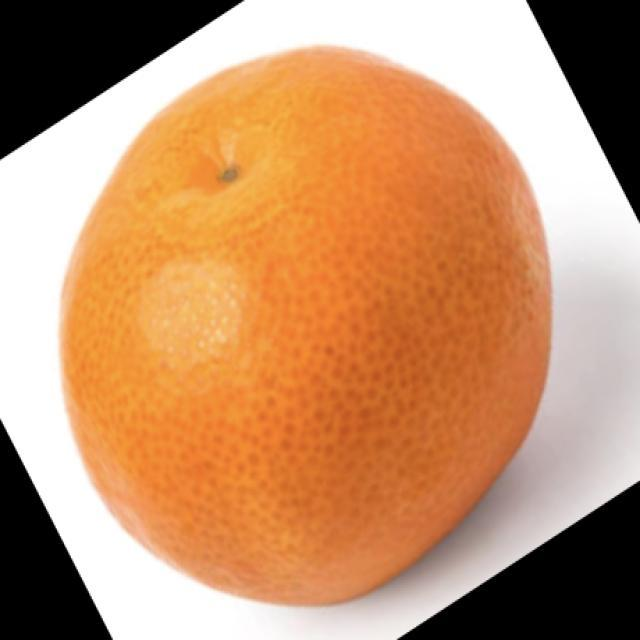matang: (61, 48, 551, 603)
